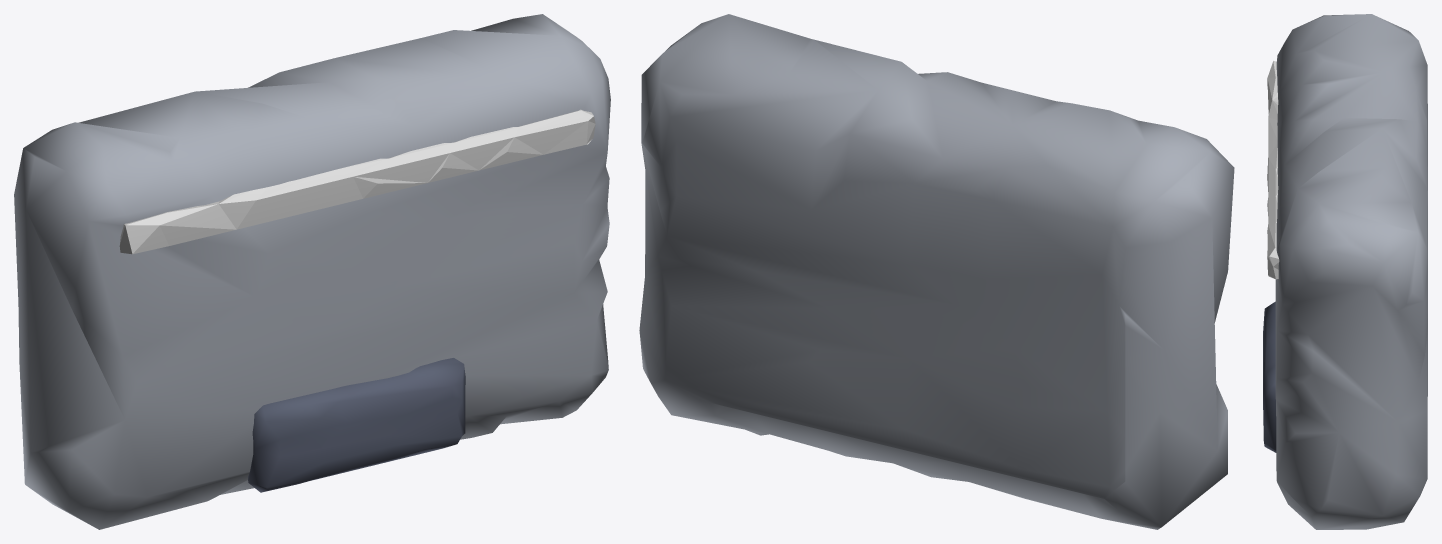
Rendered from gear_plastron.glb.
The picture shows the model from 3 angles, left to right: view 1: azimuth 30°, elevation 25°; view 2: azimuth 150°, elevation 25°; view 3: azimuth 270°, elevation 25°; orthographic projection. The views are drawn at different scales.
Visible parts, largest first — view 1: torso__plastron, torso__plastron_glow; view 2: torso__plastron; view 3: torso__plastron, torso__plastron_glow.
Boxes of the visible parts, bbox=[...] form: torso__plastron: bbox=[14, 14, 610, 529]; torso__plastron_glow: bbox=[119, 109, 595, 254]; torso__plastron: bbox=[639, 14, 1234, 529]; torso__plastron: bbox=[1263, 14, 1427, 529]; torso__plastron_glow: bbox=[1267, 60, 1279, 279].
Bounding box in the file's own units: 0.2622 × 0.1709 × 0.078.
